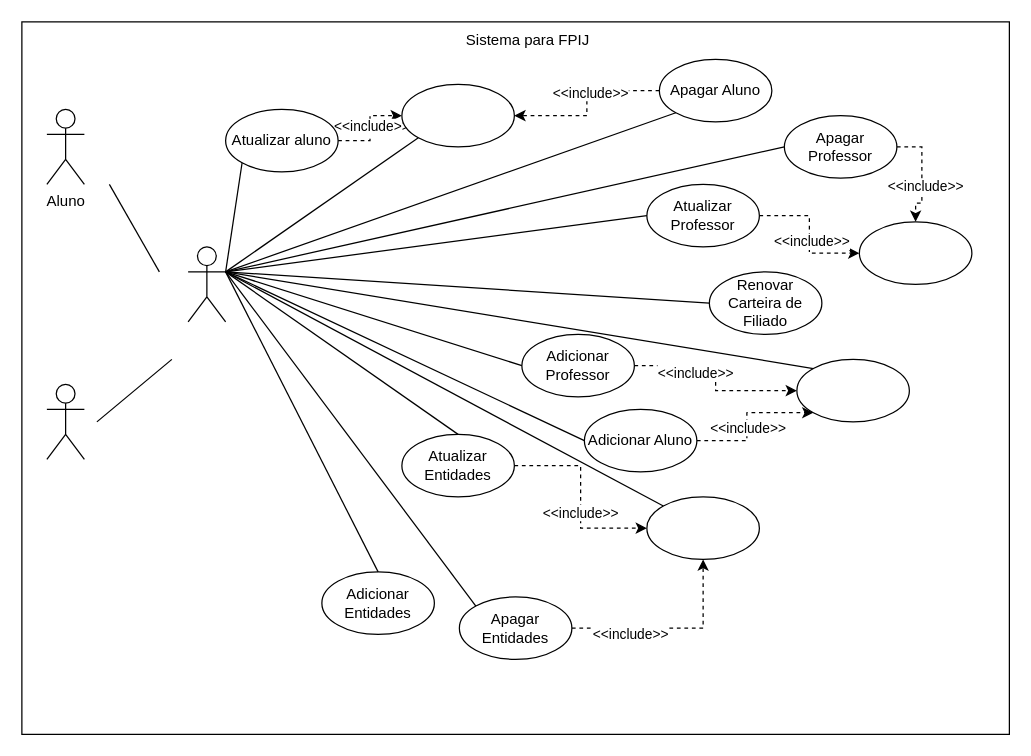
Some shapes in this 1031 by 756 pixel diagram are drawn without their labels. The shapes that lost their labels are listed below. From the top down, each one's centre as x and y in pixels, then its label:
At point (457, 115): "Buscar Aluno".
At point (915, 252): "Buscar Professor".
At point (206, 284): "Secretário".
At point (852, 390): "Emitir Carteira de Filiado".
At point (65, 421): "Professor".
At point (702, 527): "Buscar Entidades".
